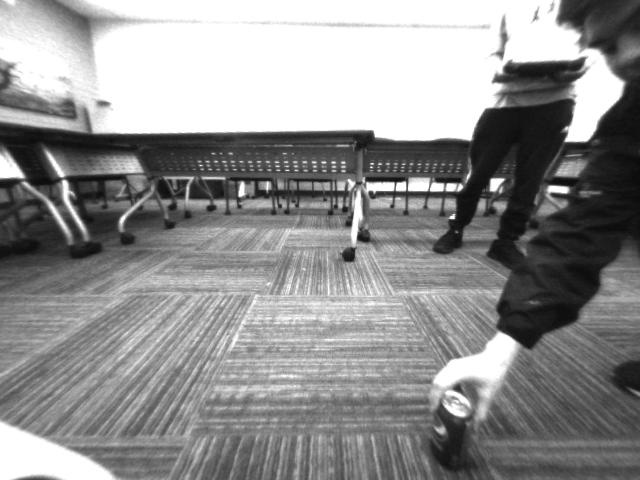can: (430, 386, 481, 473)
